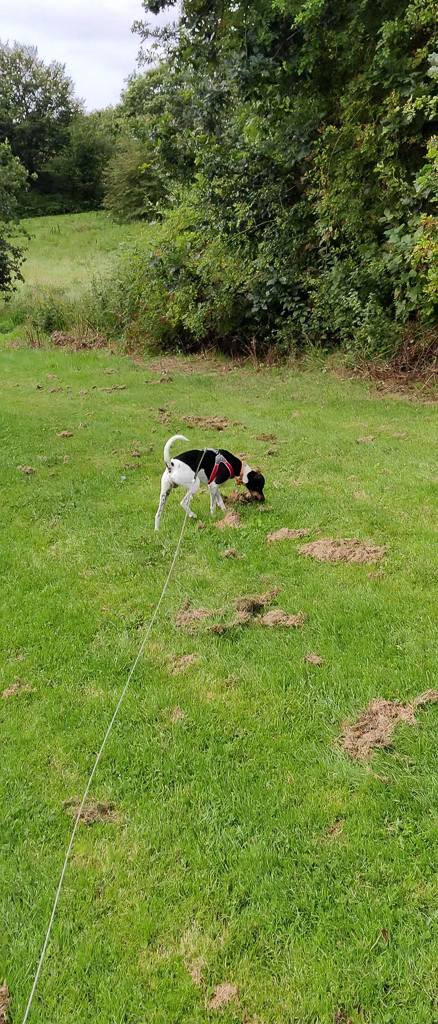Dog: (144, 428, 278, 540)
